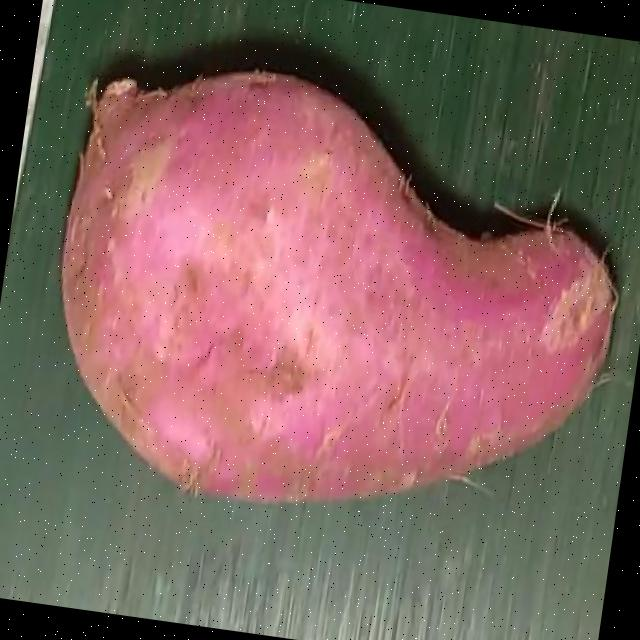Sweet Potato: (59, 68, 619, 504)
